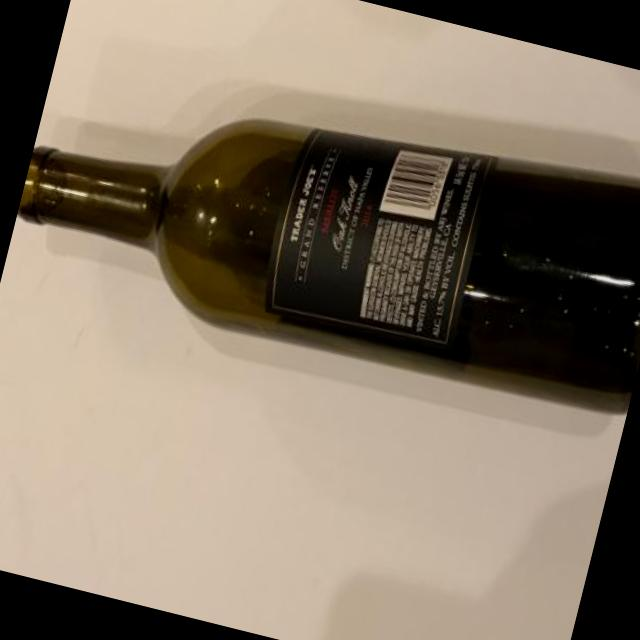chai_thuy_tinh: (17, 120, 640, 412)
